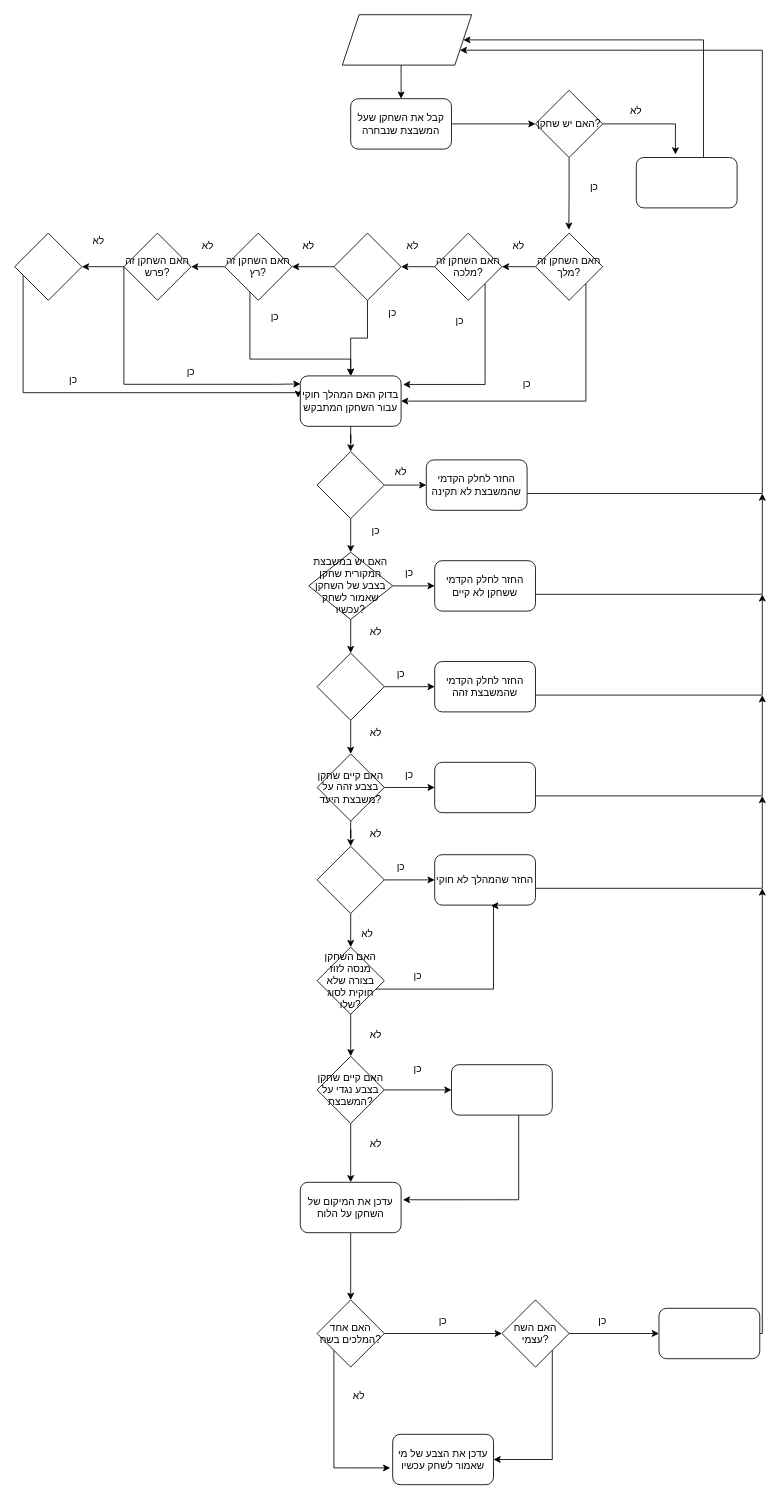
Image size: 784x1499. Some labels were removed from this diagram. The shapes that lost their labels are listed below. From the top down, each one's centre as x and y in pixels, then its label:
At (x=406, y=39): "מתקבל מידע מהחלק הקדמי".
At (x=686, y=182): "שלח לחלק הקדמי את הקוד שאומר ששחקן לא קיים במשבצת המתבקשת".
At (x=48, y=266): "האם השחקן זה רגלי?".
At (x=367, y=266): "האם השחקן זה צריח?".
At (x=350, y=485): "האם המשבצת תקינה?".
At (x=350, y=686): "האם השחקן מבקש לזוז למשבת שהוא כרגע נמצא עליה?".
At (x=485, y=787): "החזר לחלק הקדמי שקיים שחקן על המשבצת הזאת".
At (x=350, y=879): "האם החייל שזז עכשיו ידרוס חייל בצבע זהה לשלו?".
At (x=501, y=1089): "מחק אותו מהלוח".
At (x=709, y=1333): "החזר שמתרחש שח עצמי".
